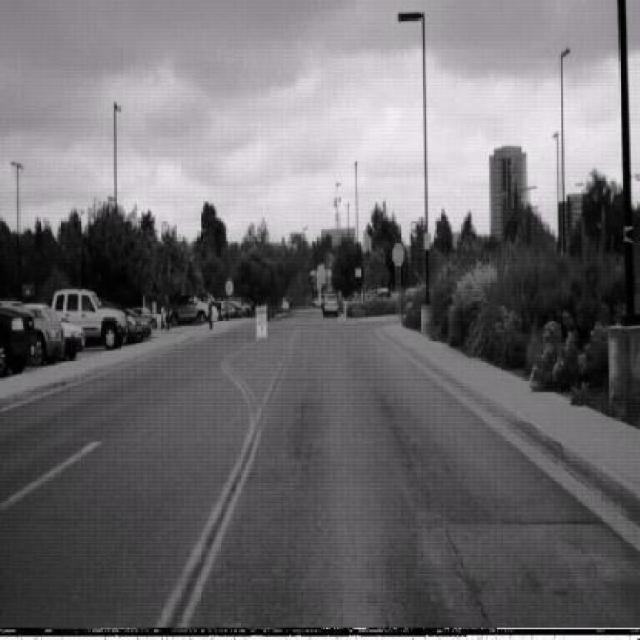stop: (392, 242, 405, 266)
